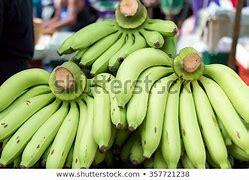banana: (117, 40, 249, 160), (0, 65, 122, 164), (62, 4, 184, 80)
